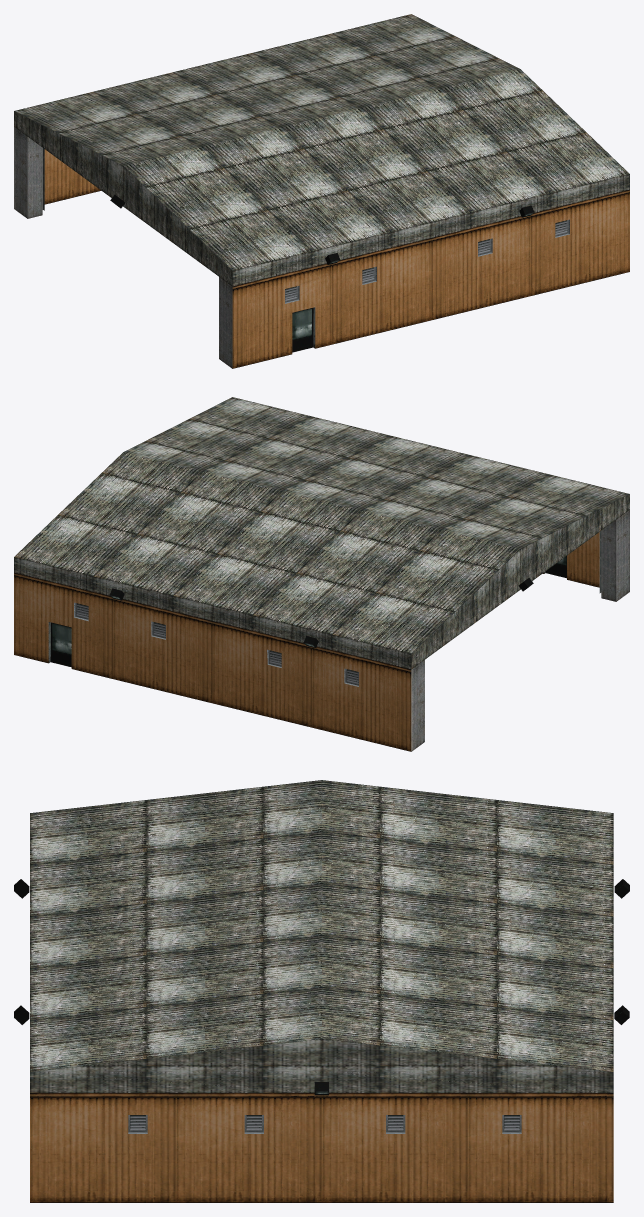
The model's file is pltschlhnger02_lvs.obj.
3 views of the same model, one above another, from view 1: azimuth 30°, elevation 25°; view 2: azimuth 150°, elevation 25°; view 3: azimuth 270°, elevation 25° (orthographic). The views are drawn at different scales.
Parts seen in each view (by area): view 1: pltschlhnger02_lvs; view 2: pltschlhnger02_lvs; view 3: pltschlhnger02_lvs.
Boxes of the visible parts, x1,y1,x2,y2 form: pltschlhnger02_lvs: [14, 14, 629, 368]; pltschlhnger02_lvs: [14, 397, 629, 751]; pltschlhnger02_lvs: [14, 780, 629, 1202].
Size of the model in its own units: 28.09 by 7.87 by 26.79.
9 materials, 9 textured.
